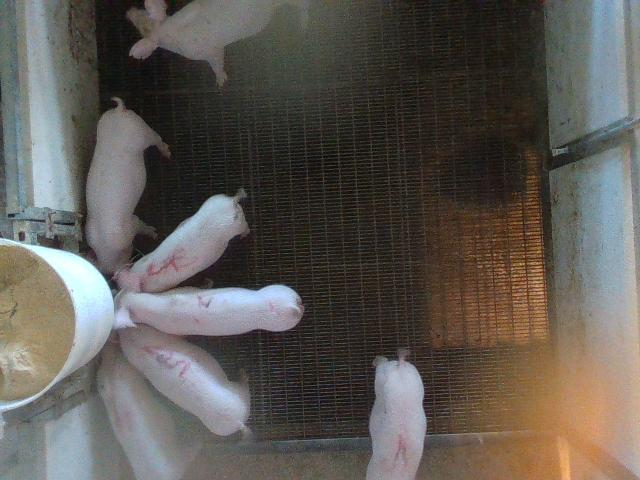pig-1: (366, 349, 426, 478)
pig-3: (119, 325, 252, 440)
pig-4: (98, 334, 190, 479)
pig-5: (115, 189, 249, 292)
